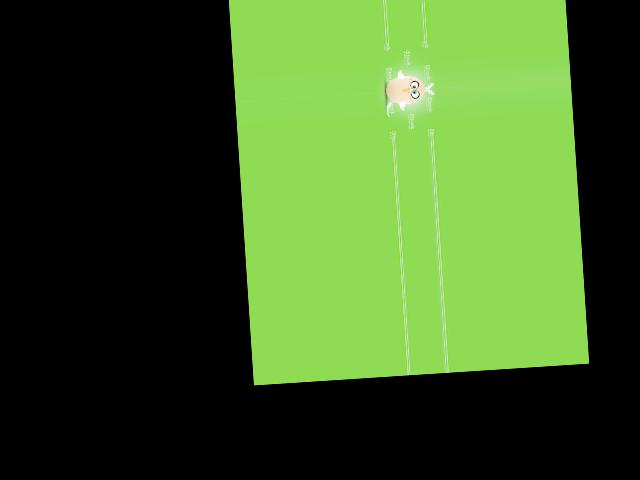egg: (384, 75, 425, 106)
